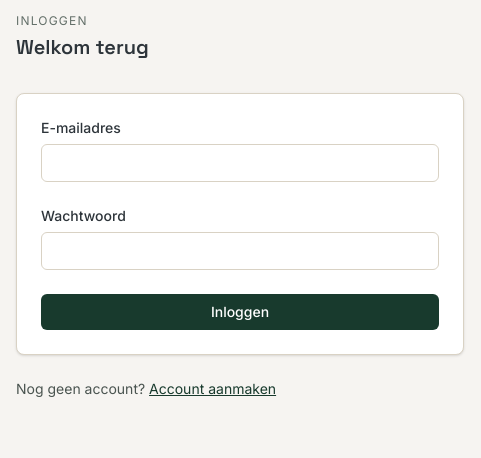
Test case: SignInPage - golden: form filled in, submitted, redirect verified › shows an inline error and does not redirect on a wrong password
The width and height of the screenshot is (481, 458).
In the field labelled "E-mailadres": (240, 163) x1=41 y1=144 x2=439 y2=182, type "golden-signin-wrong-password@example.com"
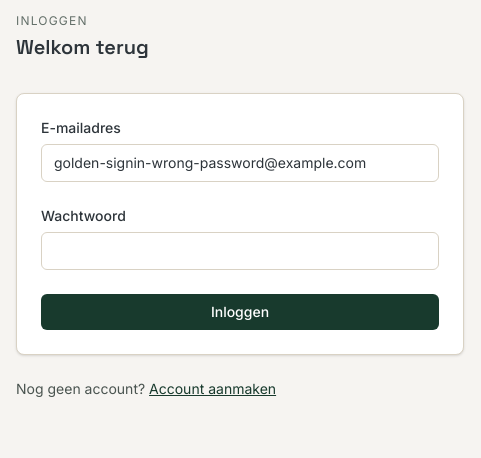
In the password field labelled "Wachtwoord": (240, 251) x1=41 y1=232 x2=439 y2=270, type "helemaalfout"
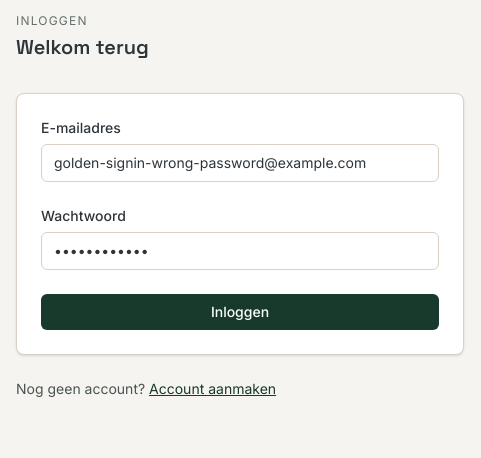
Click the button "Inloggen": (240, 312) x1=41 y1=294 x2=439 y2=330
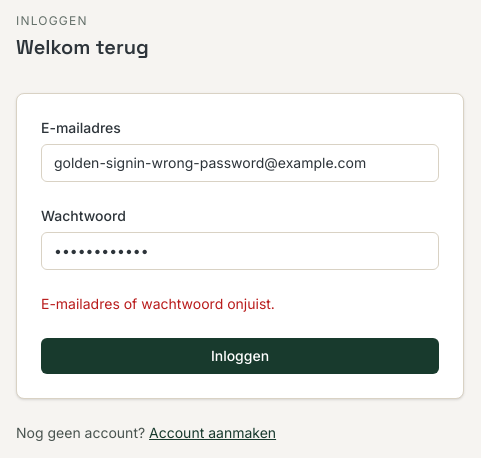
Check: the message shows "onjuist", box x1=41 y1=295 x2=275 y2=312
